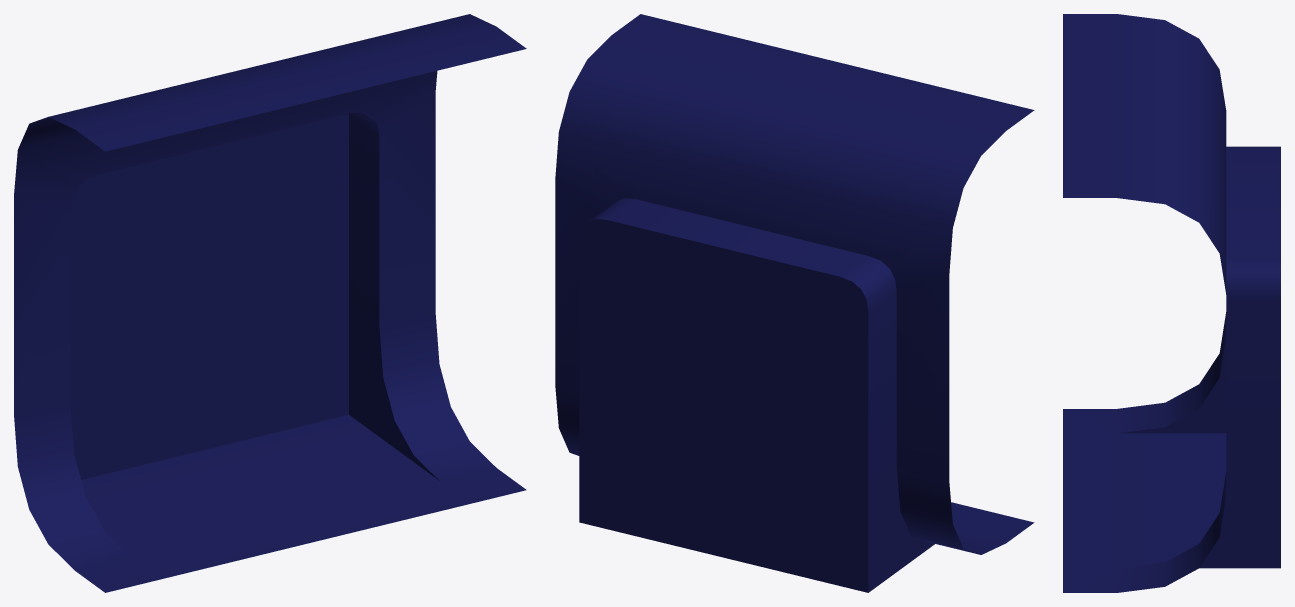
Rendered from Room_Wall_СupboardNiche_A.FBX.
3 renders of one model, left to right at view 1: azimuth 30°, elevation 25°; view 2: azimuth 150°, elevation 25°; view 3: azimuth 270°, elevation 25°, orthographic. The views are drawn at different scales.
Visible parts, largest first — view 1: Room_Wall_СupboardNiche_A; view 2: Room_Wall_СupboardNiche_A; view 3: Room_Wall_СupboardNiche_A.
Part boxes in pixels (x1=…): Room_Wall_СupboardNiche_A: x1=14, y1=14, x2=526, y2=592; Room_Wall_СupboardNiche_A: x1=555, y1=14, x2=1034, y2=592; Room_Wall_СupboardNiche_A: x1=1063, y1=14, x2=1280, y2=592.
Size of the model in its own units: 300 by 300 by 150.
